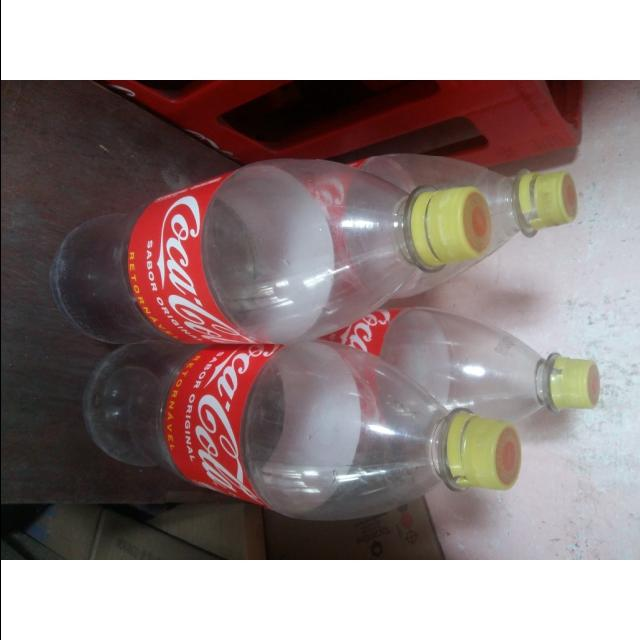bottom: (50, 206, 167, 344), (82, 341, 195, 477)
label: (127, 173, 254, 344), (163, 345, 282, 507), (323, 310, 401, 356), (348, 160, 366, 168)
neck: (309, 356, 519, 527), (315, 157, 490, 339), (487, 141, 581, 262), (486, 331, 603, 423)
